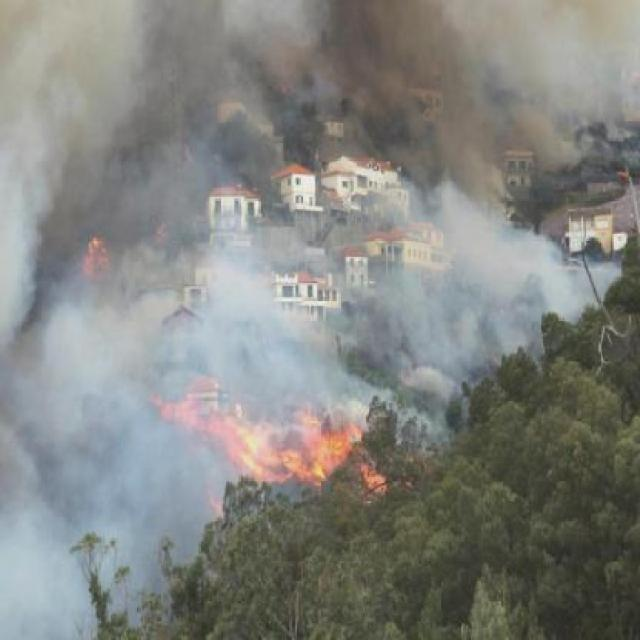Fire: (186, 390, 434, 528)
Smoke: (0, 13, 640, 390), (7, 403, 193, 640)
